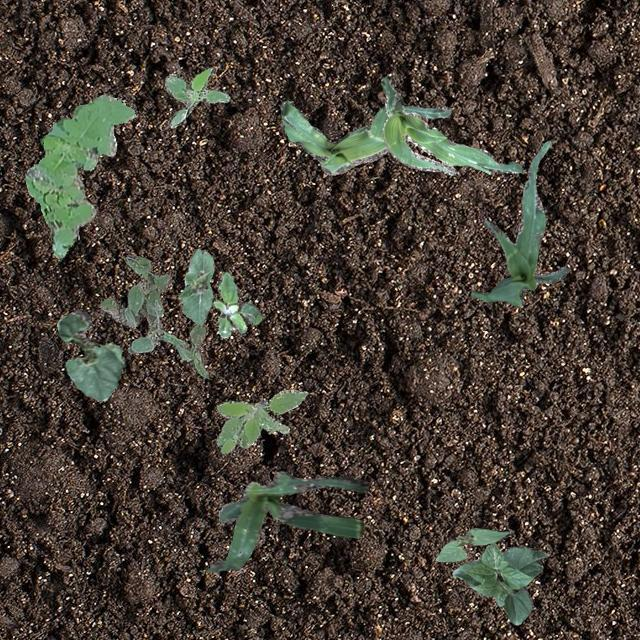crop: (205, 471, 368, 572), (471, 140, 568, 304), (380, 76, 520, 174), (452, 540, 548, 624), (278, 100, 388, 173), (56, 308, 122, 401), (178, 248, 214, 324), (434, 526, 508, 560)
weed: (24, 94, 134, 258), (99, 254, 208, 376), (215, 388, 306, 452), (164, 66, 228, 126), (212, 270, 260, 336)
